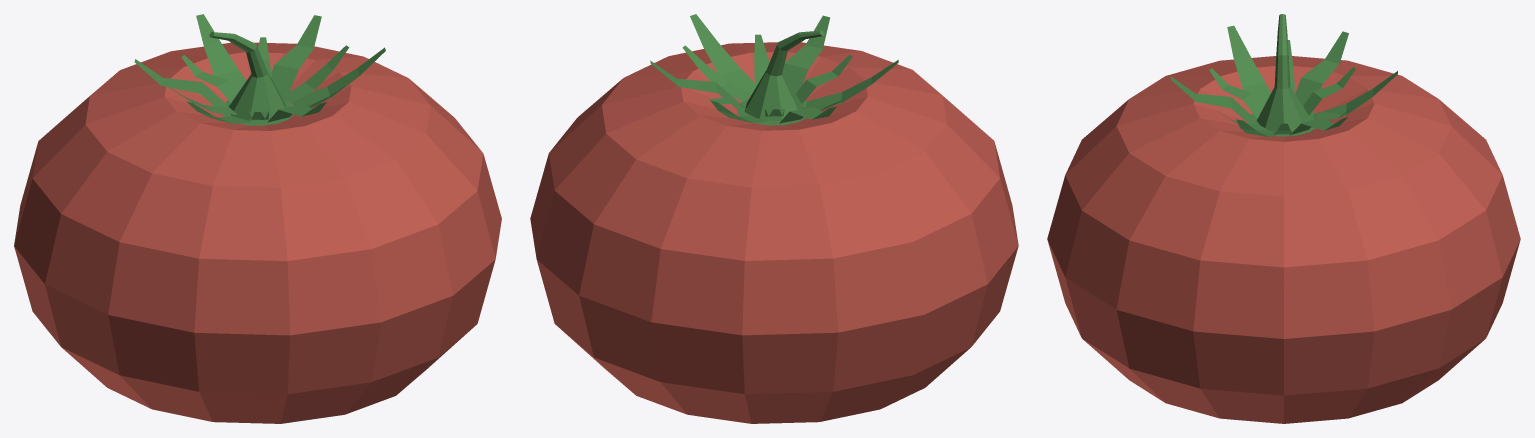
The model's file is Tomato.fbx.
3 renders of one model, left to right at view 1: azimuth 30°, elevation 25°; view 2: azimuth 150°, elevation 25°; view 3: azimuth 270°, elevation 25°, orthographic. The views are drawn at different scales.
Visible parts, largest first — view 1: Tomato, Leaves, Stem; view 2: Tomato, Leaves, Stem; view 3: Tomato, Leaves, Stem.
Boxes of the visible parts, x1,y1,x2,y2 form: Tomato: [14, 42, 501, 423]; Leaves: [134, 14, 385, 124]; Stem: [209, 32, 286, 121]; Tomato: [530, 42, 1018, 423]; Leaves: [650, 14, 898, 123]; Stem: [744, 30, 824, 121]; Tomato: [1047, 56, 1520, 423]; Leaves: [1170, 25, 1397, 137]; Stem: [1256, 14, 1311, 131].
Bounding box in the file's own units: 0.6 × 0.4956 × 0.6.
